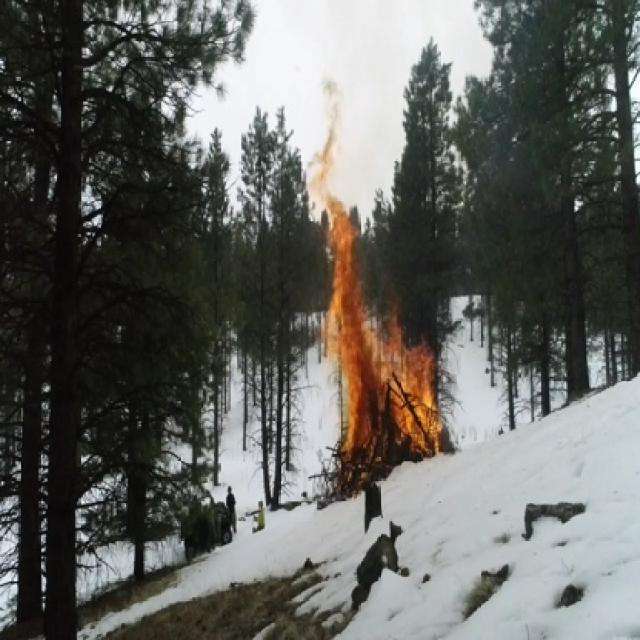Fire: (303, 75, 446, 472)
